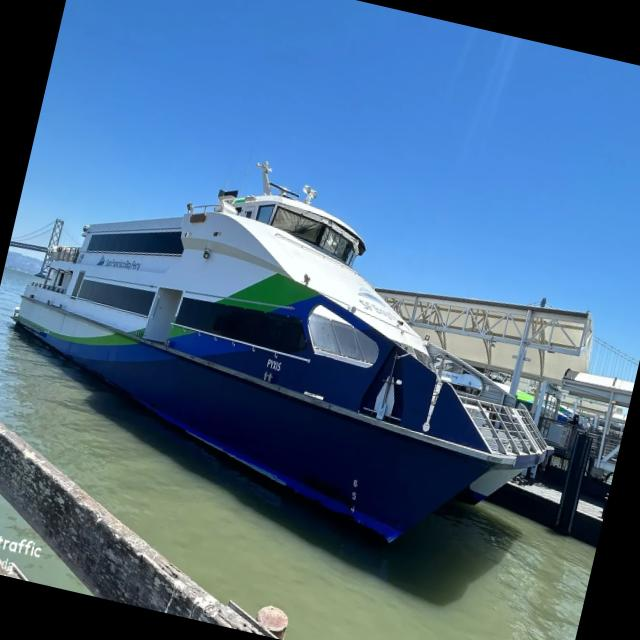Passenger: (13, 184, 552, 540)
